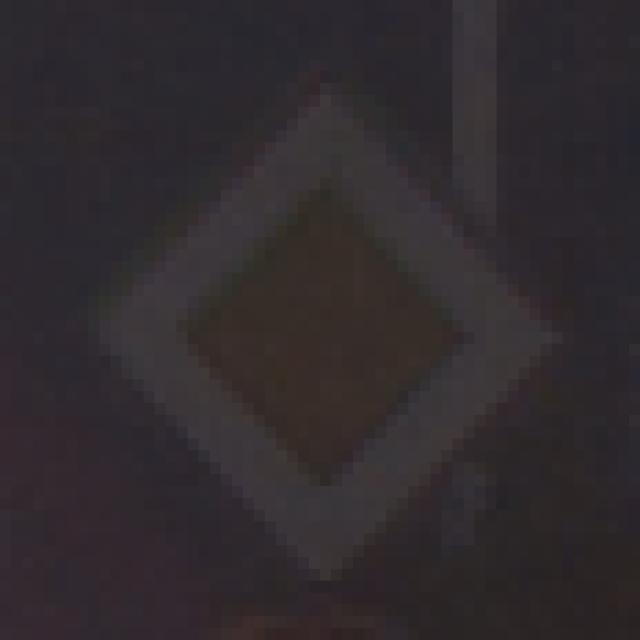Main Road: (67, 60, 586, 582)
